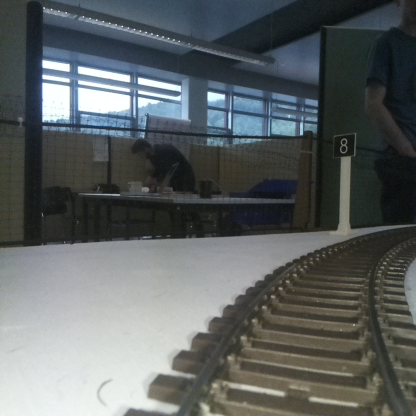black-info-8: (333, 132, 355, 233)
